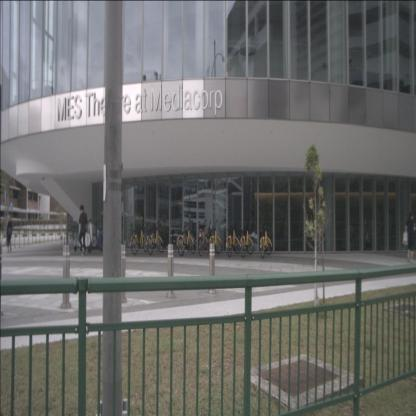human-pedestrian-adult: (402, 211, 416, 263), (78, 204, 88, 256), (5, 214, 13, 253)
